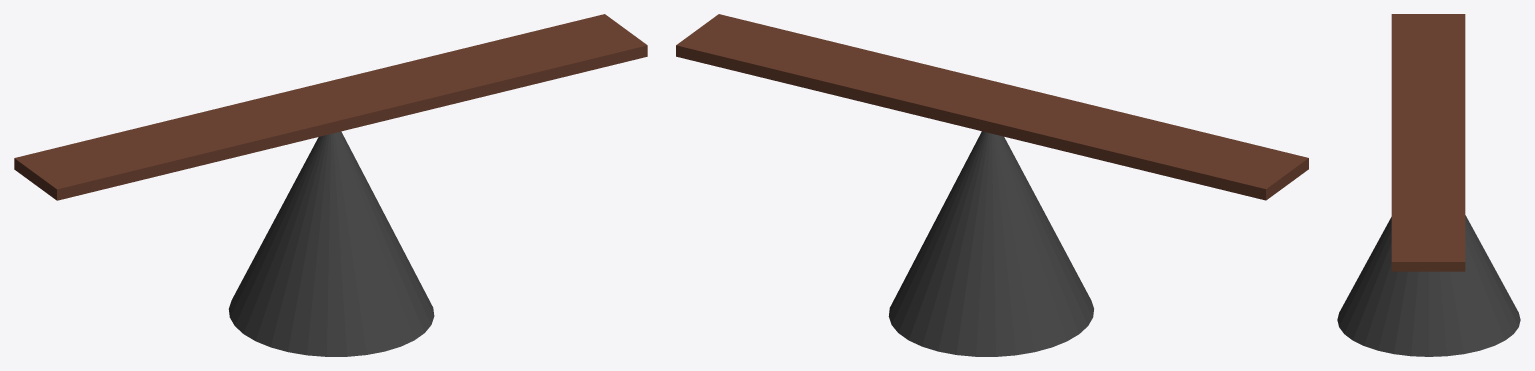
Rendered from SeeSaw_Final.glb.
3 views of the same model, side by side, from view 1: azimuth 30°, elevation 25°; view 2: azimuth 150°, elevation 25°; view 3: azimuth 270°, elevation 25° (orthographic). The views are drawn at different scales.
Parts seen in each view (by area): view 1: Cube, Cone; view 2: Cube, Cone; view 3: Cube, Cone.
Boxes of the visible parts, x1,y1,x2,y2 form: Cube: [14, 14, 647, 200]; Cone: [228, 131, 434, 356]; Cube: [676, 14, 1308, 200]; Cone: [888, 131, 1093, 356]; Cube: [1391, 14, 1465, 271]; Cone: [1337, 215, 1520, 356].
Size of the model in its own units: 15.92 by 5.44 by 4.98.
